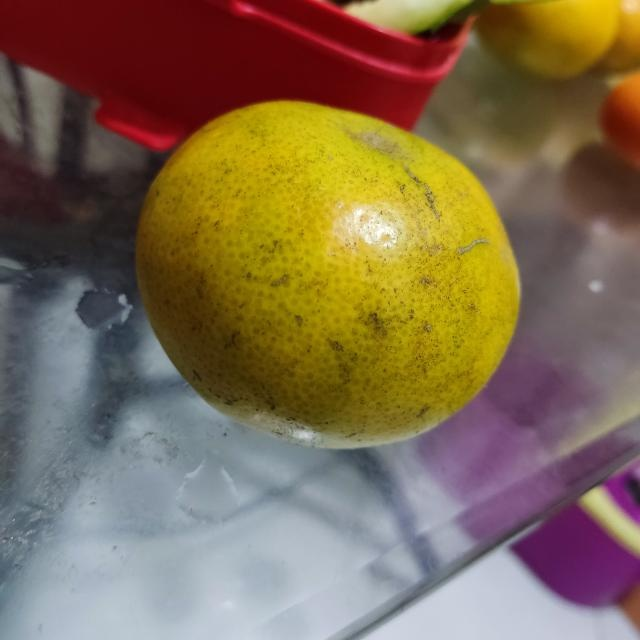agrume: (134, 97, 522, 454)
